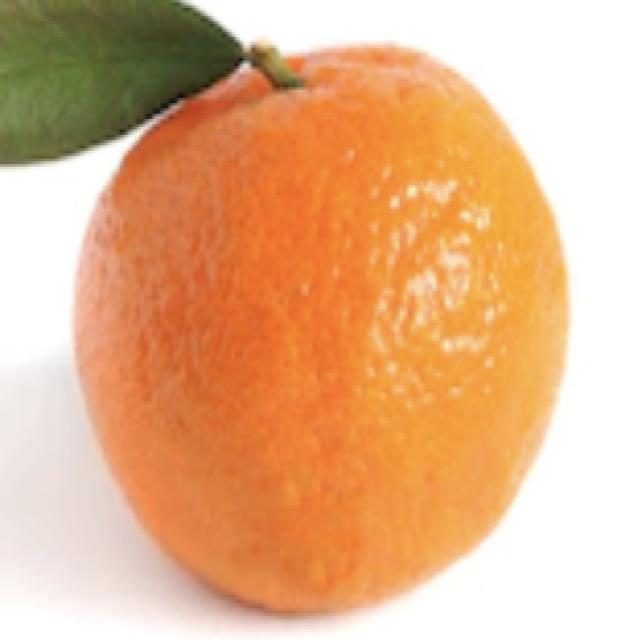orange: (76, 48, 568, 610)
